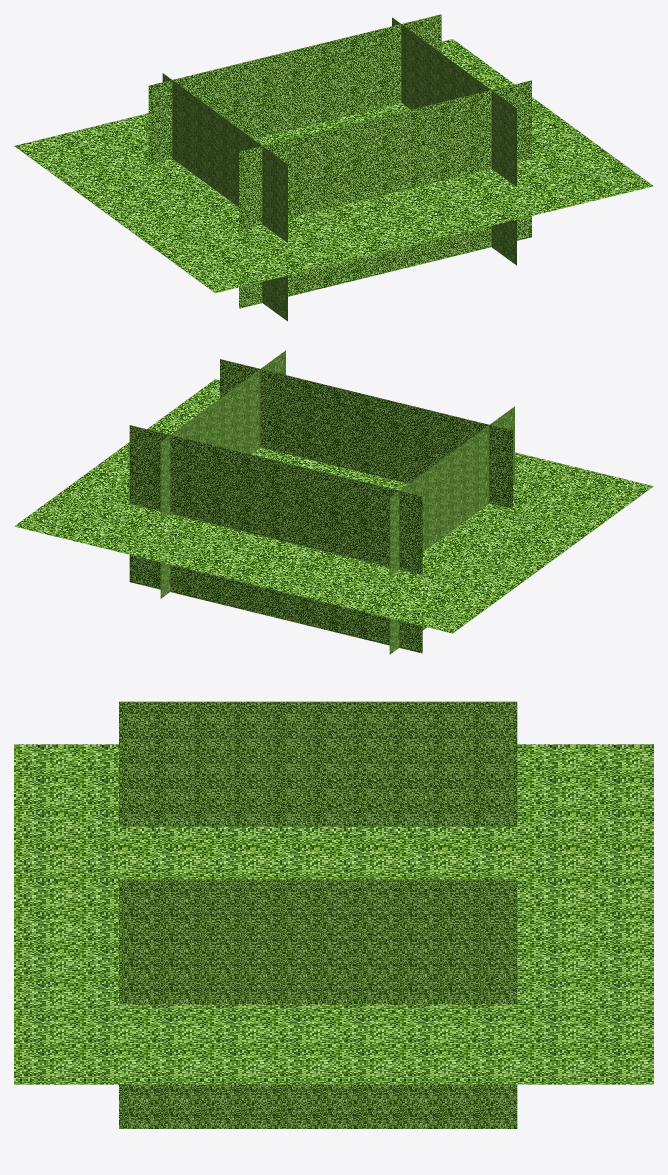
The model's file is hope.gltf.
3 views of the same model, one above another, from view 1: azimuth 30°, elevation 25°; view 2: azimuth 150°, elevation 25°; view 3: azimuth 270°, elevation 25° (orthographic). The views are drawn at different scales.
Visible parts, largest first — view 1: Floor, Floor.003, Floor.004, Floor.001, Floor.002; view 2: Floor, Floor.004, Floor.003, Floor.001, Floor.002; view 3: Floor, Floor.002, Floor.001.
Part boxes in pixels (x1,y1,x2,y2): Floor: (14, 39, 653, 293); Floor.003: (239, 80, 531, 308); Floor.004: (148, 14, 441, 163); Floor.001: (162, 73, 287, 321); Floor.002: (392, 17, 516, 265); Floor: (14, 379, 653, 633); Floor.004: (129, 425, 422, 653); Floor.003: (220, 359, 512, 508); Floor.001: (389, 406, 514, 654); Floor.002: (160, 350, 285, 598); Floor: (14, 744, 653, 1084); Floor.002: (119, 879, 517, 1128); Floor.001: (119, 701, 517, 826).
Size of the model in its own units: 67.62 by 23.13 by 53.73.
Materials: 6 (6 with a texture image).
